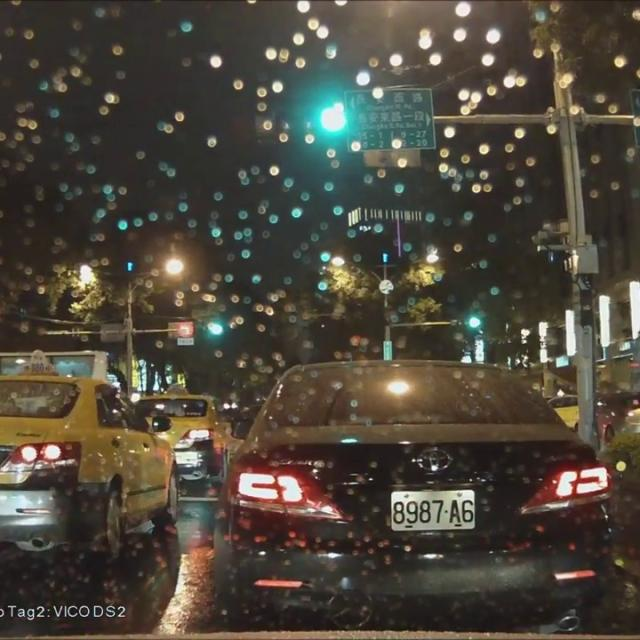Car: (203, 351, 620, 633), (0, 367, 170, 575), (129, 380, 250, 495), (594, 386, 639, 451), (543, 391, 580, 434)
